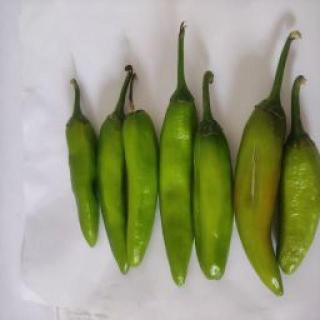Cabai Hijau: (235, 28, 300, 302), (159, 20, 199, 294), (121, 72, 161, 272), (64, 76, 104, 250)
